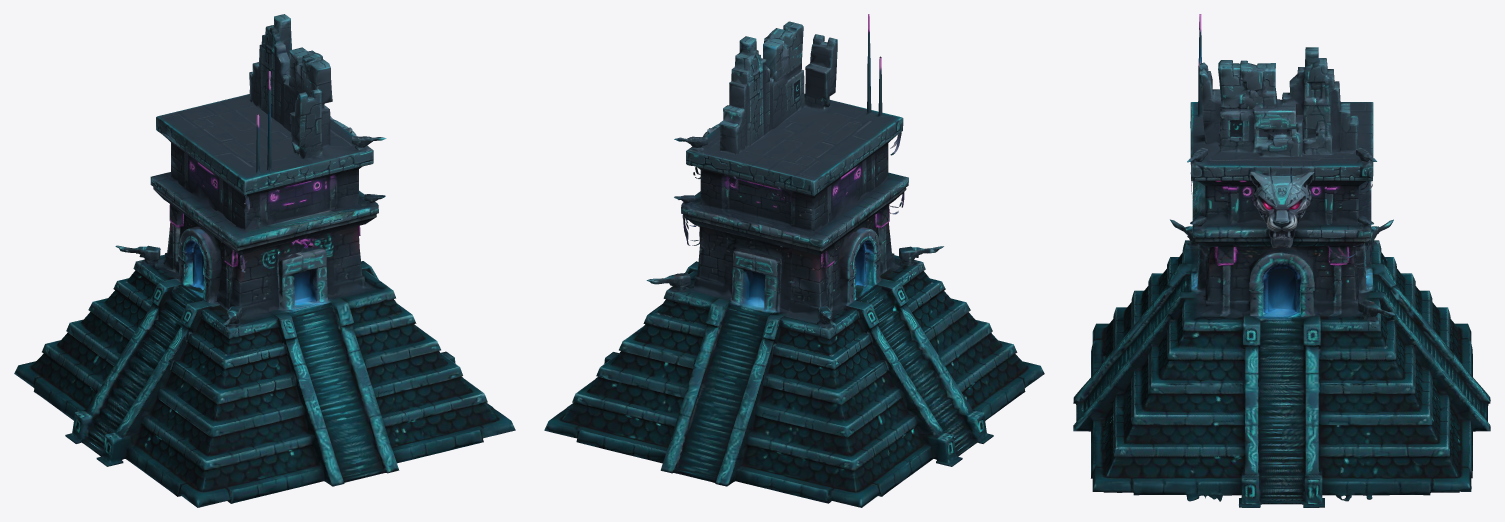
Rendered from PIRAMIDE_FBX.fbx.
3 renders of one model, left to right at view 1: azimuth 30°, elevation 25°; view 2: azimuth 150°, elevation 25°; view 3: azimuth 270°, elevation 25°, orthographic. The views are drawn at different scales.
Visible parts, largest first — view 1: tripo_node_5ce57b2a; view 2: tripo_node_5ce57b2a; view 3: tripo_node_5ce57b2a.
Boxes of the visible parts, x1,y1,x2,y2 form: tripo_node_5ce57b2a: [14, 14, 515, 507]; tripo_node_5ce57b2a: [544, 14, 1044, 507]; tripo_node_5ce57b2a: [1073, 14, 1490, 507].
Bounding box in the file's own units: 99.79 × 99.99 × 97.78.
Materials: 1 (1 with a texture image).
